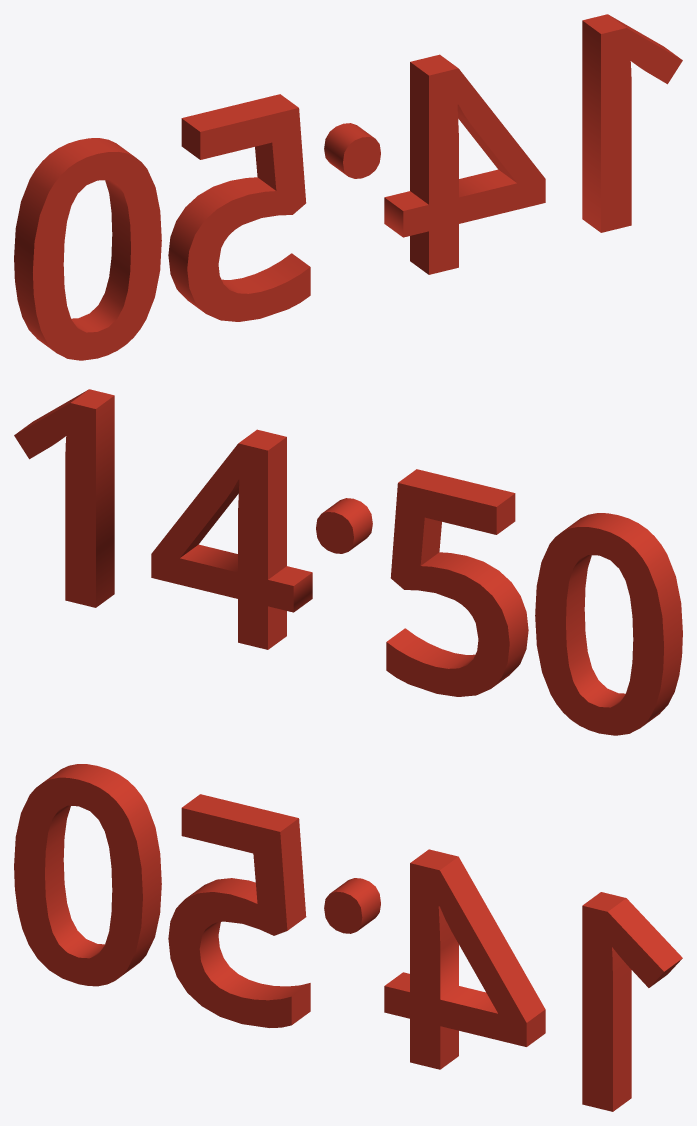
Rendered from Dong-ho.fbx.
3 views of the same model, one above another, from view 1: azimuth 30°, elevation 25°; view 2: azimuth 150°, elevation 25°; view 3: azimuth 330°, elevation 25° (orthographic).
Visible parts, largest first — view 1: group_10.004; view 2: group_10.004; view 3: group_10.004.
Boxes of the visible parts, box(x1,y1,x2,y2) form: group_10.004: box(14, 14, 682, 360); group_10.004: box(14, 389, 682, 735); group_10.004: box(14, 764, 682, 1111).
Bounding box in the file's own units: 5458 × 1642 × 274.
